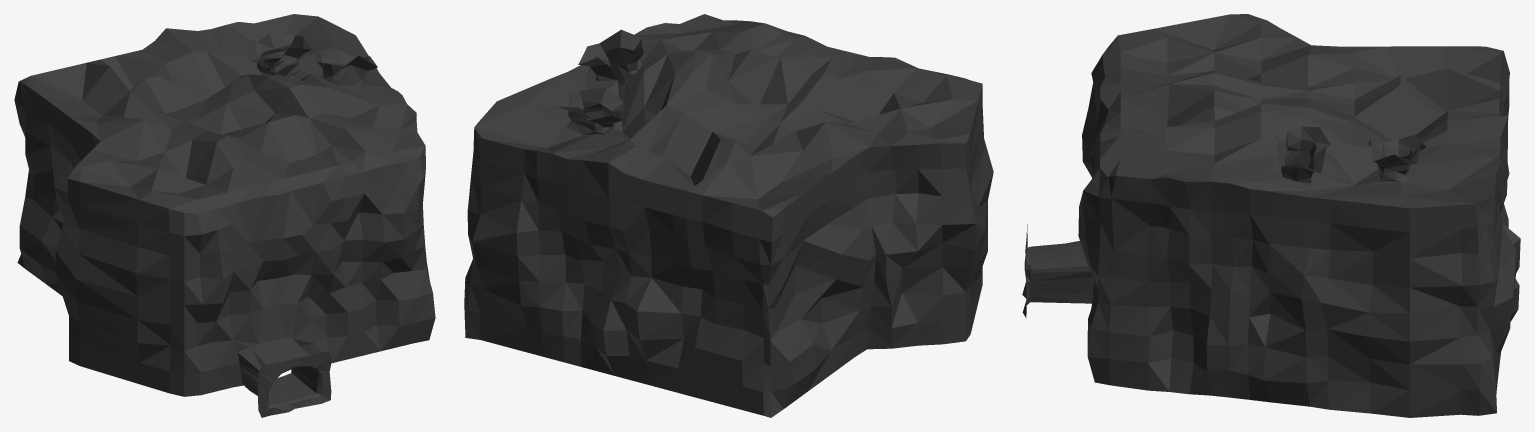
The model's file is Cave_14C.fbx.
The picture shows the model from 3 angles, left to right: view 1: azimuth 30°, elevation 25°; view 2: azimuth 150°, elevation 25°; view 3: azimuth 270°, elevation 25°; orthographic projection. The views are drawn at different scales.
Visible parts, largest first — view 1: polySurface1228; view 2: polySurface1228; view 3: polySurface1228.
Boxes of the visible parts, x1=… form: polySurface1228: x1=14, y1=14, x2=435, y2=417; polySurface1228: x1=464, y1=14, x2=993, y2=417; polySurface1228: x1=1022, y1=14, x2=1520, y2=417.
Size of the model in its own units: 45.92 by 26.92 by 46.76.
